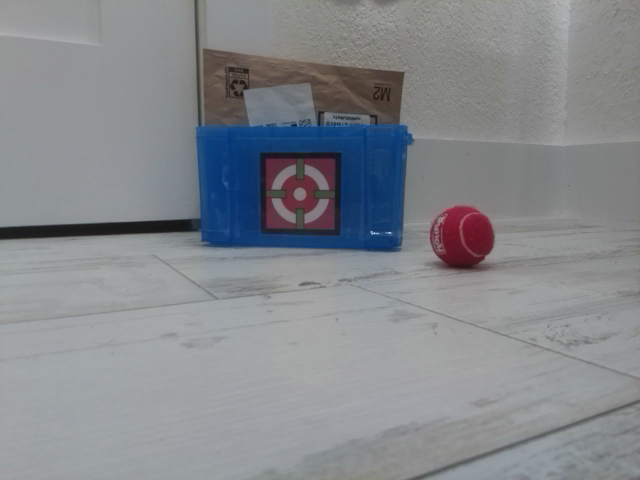drop-bin: (258, 151, 342, 236)
red-ball: (429, 204, 496, 270)
